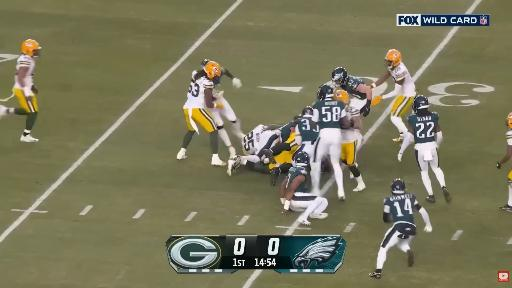Helmet: (385, 49, 402, 71), (22, 39, 41, 56), (331, 67, 348, 86), (412, 95, 429, 113), (204, 62, 221, 79), (317, 85, 333, 100), (295, 151, 309, 166), (334, 90, 349, 104), (391, 179, 405, 193), (302, 106, 313, 116), (506, 112, 512, 129), (201, 59, 210, 67), (294, 115, 302, 120)
Jersey: (184, 71, 214, 108), (384, 194, 420, 224), (408, 112, 438, 145), (313, 100, 346, 129), (14, 55, 35, 89), (243, 125, 265, 154), (341, 76, 366, 99), (390, 63, 413, 86), (296, 118, 318, 142), (287, 167, 308, 192), (279, 121, 296, 141), (342, 128, 359, 142), (213, 68, 226, 86), (506, 130, 511, 145)
Player: (370, 179, 432, 278), (398, 95, 451, 202), (177, 62, 225, 165), (311, 85, 351, 200), (264, 107, 318, 185), (371, 50, 417, 141), (0, 40, 41, 142), (280, 152, 327, 225), (335, 90, 365, 191), (227, 125, 279, 175), (209, 89, 244, 157), (264, 117, 297, 185), (332, 67, 372, 116), (264, 116, 298, 163), (292, 107, 318, 166), (497, 113, 511, 168)
